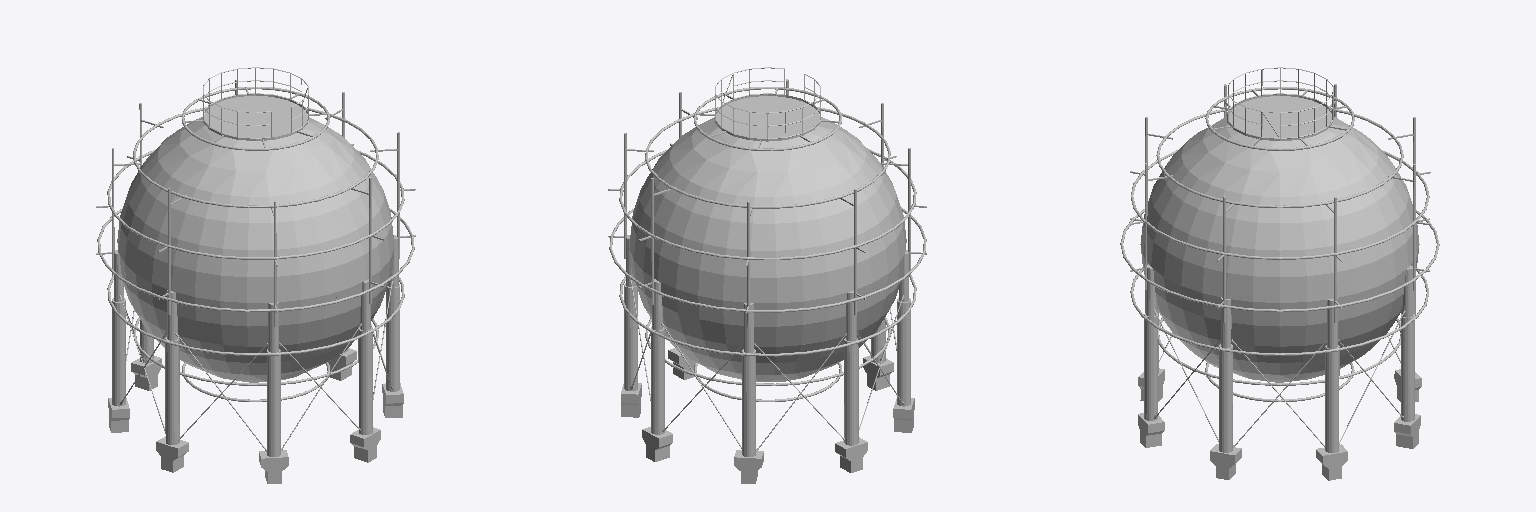
Rendered from tank_2.obj.
3 views of the same model, side by side, from view 1: azimuth 30°, elevation 25°; view 2: azimuth 150°, elevation 25°; view 3: azimuth 270°, elevation 25° (orthographic).
Visible parts, largest first — view 1: EQUIP_Q_18, Object001; view 2: EQUIP_Q_18, Object001; view 3: EQUIP_Q_18, Object001.
Boxes of the visible parts, box(x1,y1,x2,y2) form: EQUIP_Q_18: box(96, 80, 415, 483); Object001: box(203, 67, 308, 138); EQUIP_Q_18: box(608, 79, 926, 483); Object001: box(715, 67, 820, 139); EQUIP_Q_18: box(1120, 84, 1439, 480); Object001: box(1227, 67, 1333, 138).
Size of the model in its own units: 11.38 by 13.15 by 11.45.